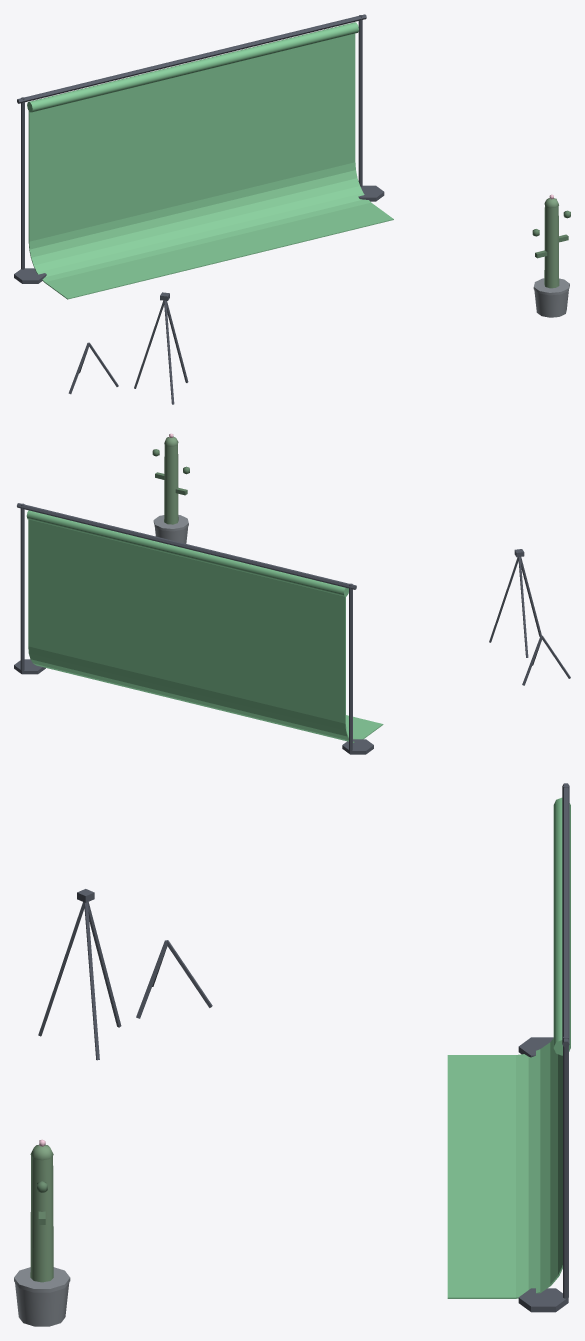
The model's file is einrichtung_greenscreen_buehne.glb.
3 views of the same model, one above another, from view 1: azimuth 30°, elevation 25°; view 2: azimuth 150°, elevation 25°; view 3: azimuth 270°, elevation 25° (orthographic). The views are drawn at different scales.
Visible parts, largest first — view 1: einrichtung_greenscreen_buehne; view 2: einrichtung_greenscreen_buehne; view 3: einrichtung_greenscreen_buehne.
Boxes of the visible parts, left/top/right/bottom form: einrichtung_greenscreen_buehne: left=14, top=14, right=570, bottom=404; einrichtung_greenscreen_buehne: left=14, top=433, right=570, bottom=754; einrichtung_greenscreen_buehne: left=14, top=783, right=570, bottom=1326.
Size of the model in its own units: 6.57 by 2.36 by 4.47.
